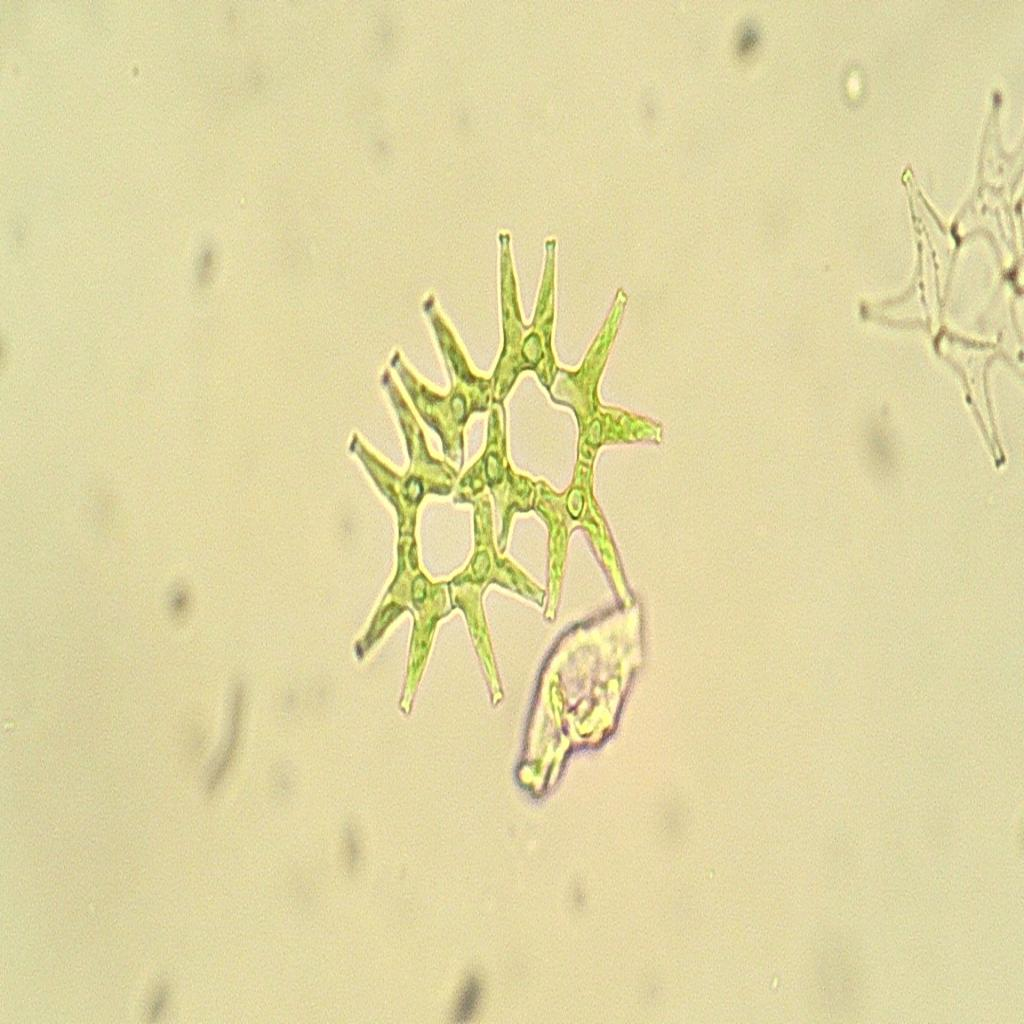Pediastrum_1TH: (310, 191, 689, 741)
